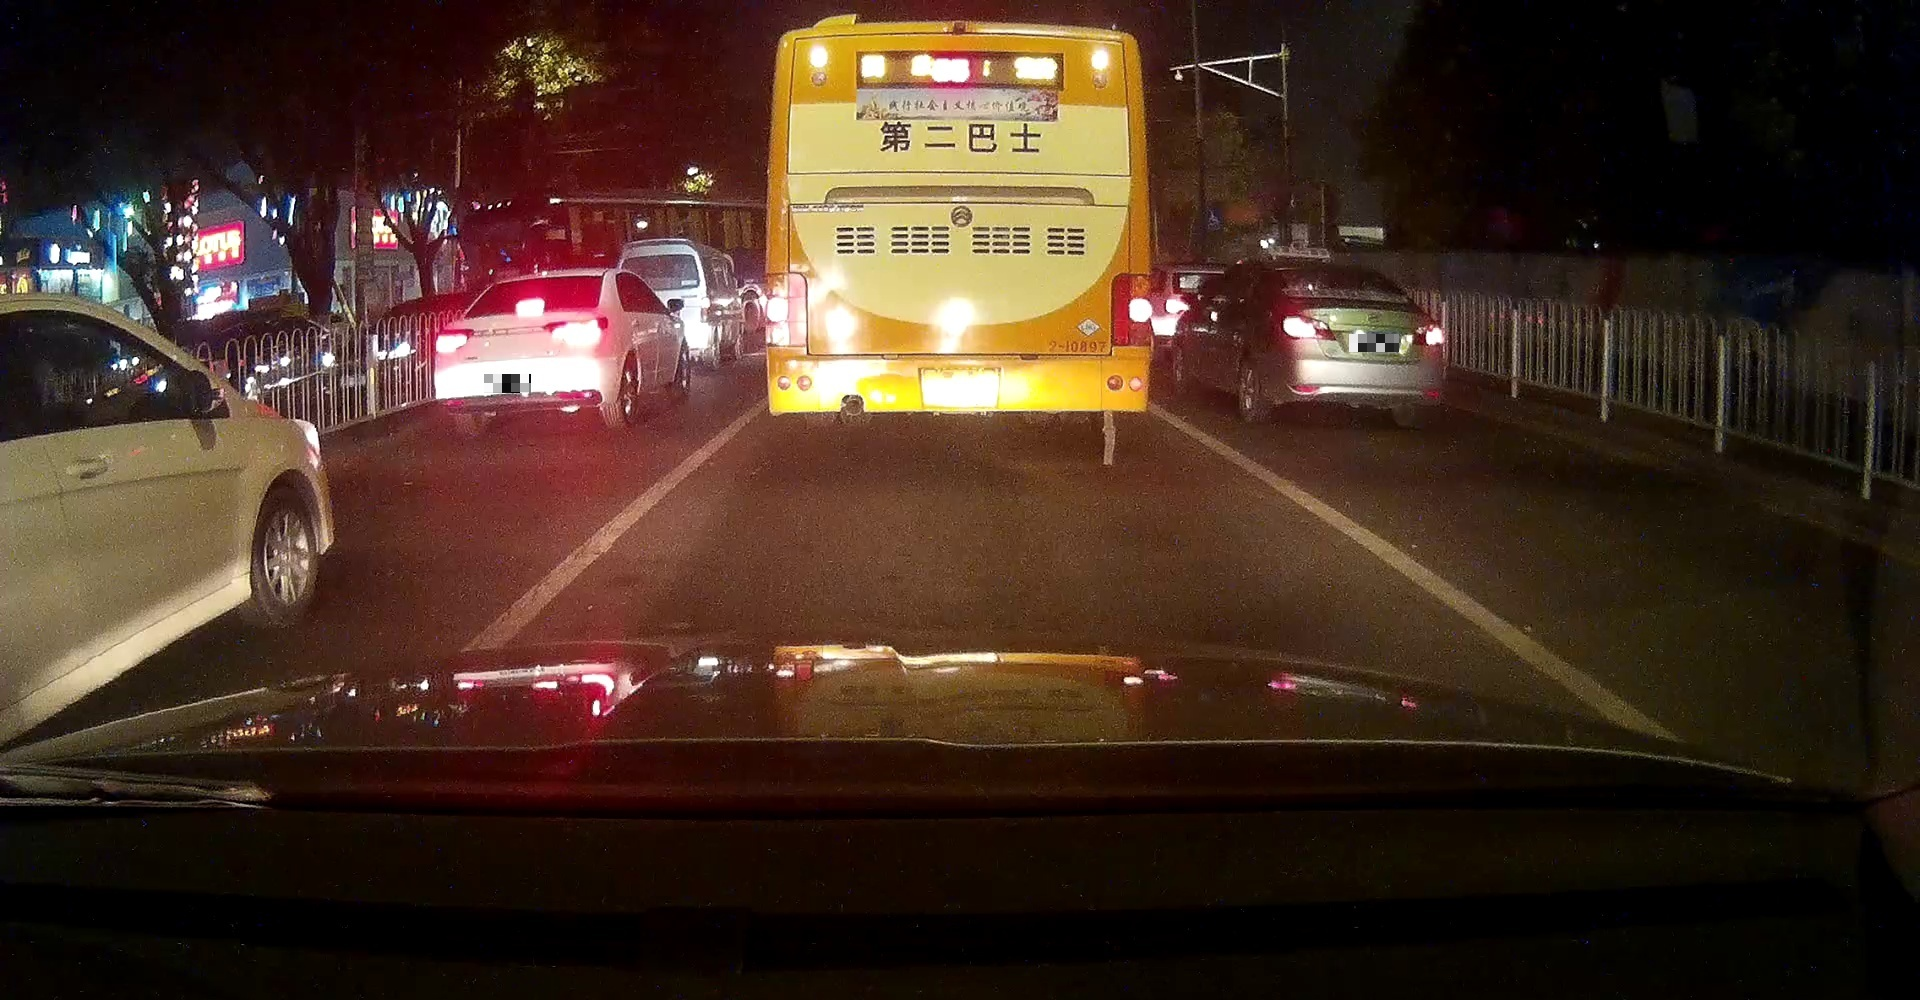L_light: (764, 273, 806, 348), (1280, 313, 1336, 340), (434, 327, 475, 354)
R_light: (1110, 273, 1152, 348), (543, 320, 604, 348), (1408, 324, 1446, 346)
T_light: (919, 32, 987, 52), (516, 298, 545, 315), (1321, 269, 1349, 275)
night-brake: (433, 268, 610, 439)
night-no: (764, 22, 1152, 428), (1263, 259, 1446, 428)
plate_1: (484, 374, 531, 393)
plate_2: (1349, 334, 1399, 352)
